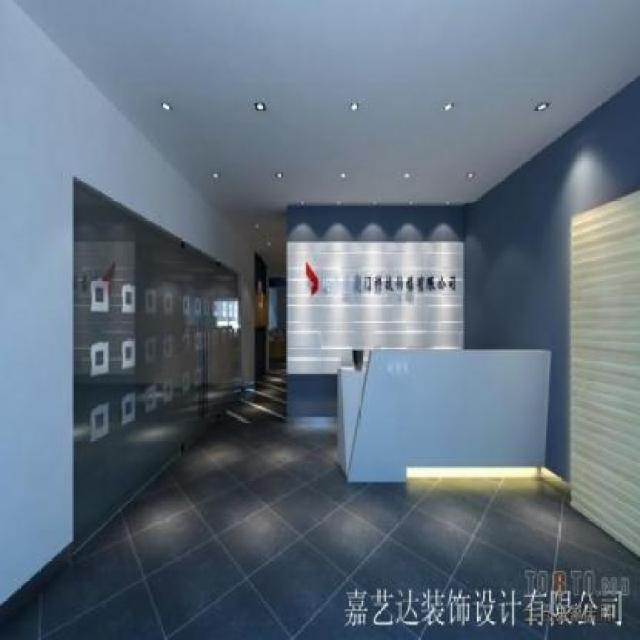frontdesk: (331, 337, 560, 490)
